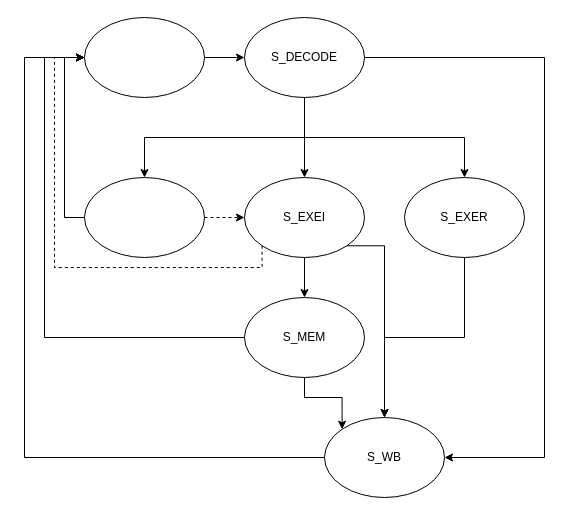
The diagram is 570 pixels wide and 515 high, and some of its shapes have lost their labels. Here are the shapes that lost their labels. From the top down, the centre of each, then its label:
the point at 144,57: S_FETCH
the point at 144,217: S_BTYPE
